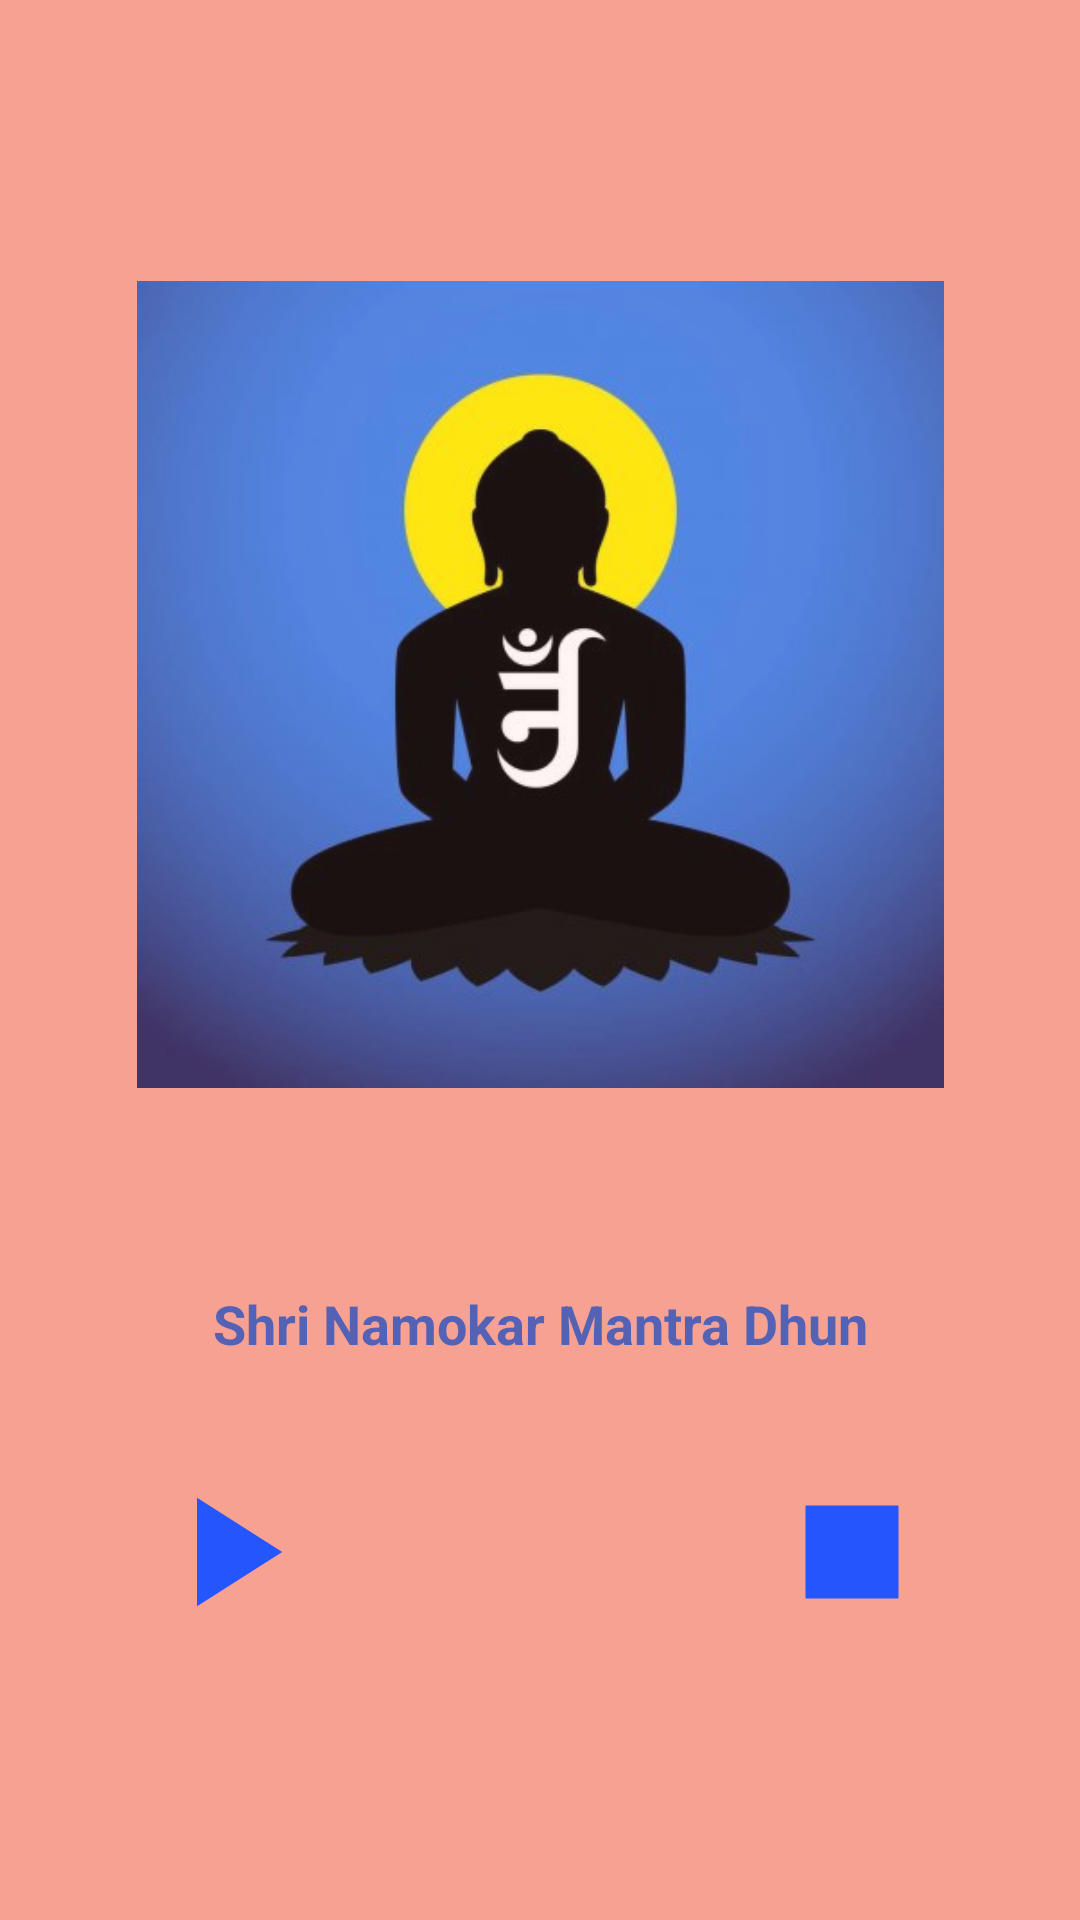

Point at icon controls on the screen. Image size 1080px×1920px, points as (x,y).
play: (239,1552)
stop: (852,1552)
